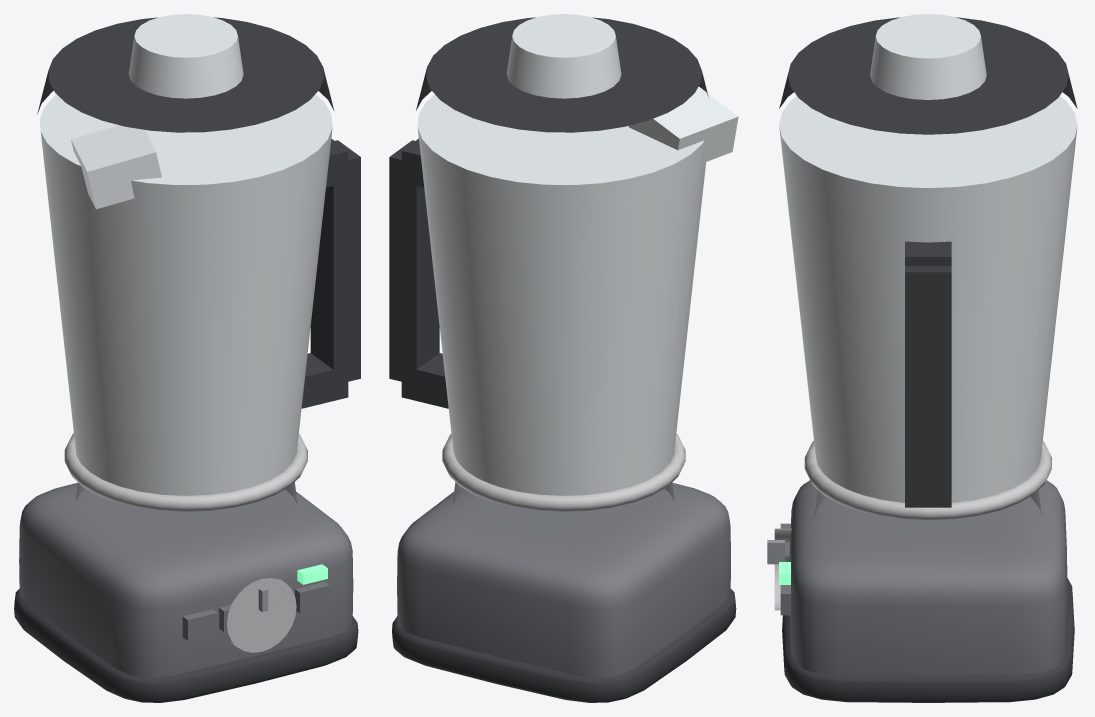
The model's file is blender.glb.
3 renders of one model, left to right at view 1: azimuth 30°, elevation 25°; view 2: azimuth 150°, elevation 25°; view 3: azimuth 270°, elevation 25°, orthographic.
Parts seen in each view (by area): view 1: jar, base, lid, base-plinth, handle, lid-cap, pour-spout, jar-band, dial, buttons (×2), handle-bottom, handle-top; view 2: jar, base, lid, base-plinth, handle, lid-cap, jar-band, pour-spout, handle-bottom, handle-top; view 3: jar, base, lid, handle, base-plinth, lid-cap, jar-band, handle-top, dial.
Part boxes in pixels (<box>): jar: <box>39,94,332,495</box>; base: <box>19,482,353,677</box>; lid: <box>37,17,334,132</box>; base-plinth: <box>14,589,358,702</box>; handle: <box>310,140,360,384</box>; lid-cap: <box>128,14,243,98</box>; pour-spout: <box>71,125,161,209</box>; jar-band: <box>64,433,307,511</box>; dial: <box>227,578,296,652</box>; buttons (×2): <box>182,581,329,640</box>; handle-bottom: <box>301,353,348,408</box>; handle-top: <box>326,138,348,187</box>; jar: <box>417,94,705,495</box>; base: <box>397,482,730,677</box>; lid: <box>416,17,708,132</box>; base-plinth: <box>392,589,736,702</box>; handle: <box>389,140,439,385</box>; lid-cap: <box>506,14,621,98</box>; jar-band: <box>442,433,685,511</box>; pour-spout: <box>629,86,738,162</box>; handle-bottom: <box>401,353,448,408</box>; handle-top: <box>401,138,424,187</box>; jar: <box>779,96,1077,502</box>; base: <box>789,480,1067,674</box>; lid: <box>779,17,1077,134</box>; handle: <box>905,266,951,497</box>; base-plinth: <box>782,578,1074,702</box>; lid-cap: <box>870,14,986,99</box>; jar-band: <box>804,441,1051,520</box>; handle-top: <box>905,241,951,266</box>; dial: <box>774,528,791,610</box>.
Size of the model in its own units: 0.2407 by 0.462 by 0.214.
Materials: 6 (2 with a texture image).
